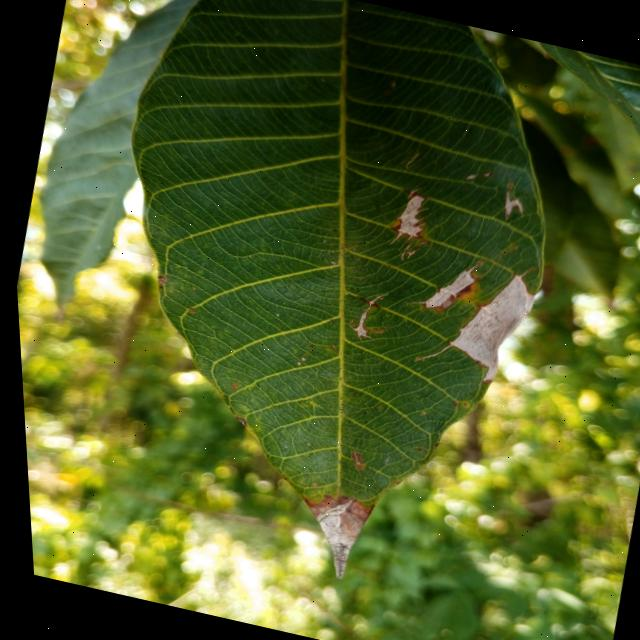Leaf-Blight: (434, 256, 543, 390), (282, 488, 372, 584), (416, 255, 477, 318), (385, 191, 430, 252), (496, 190, 524, 222)
